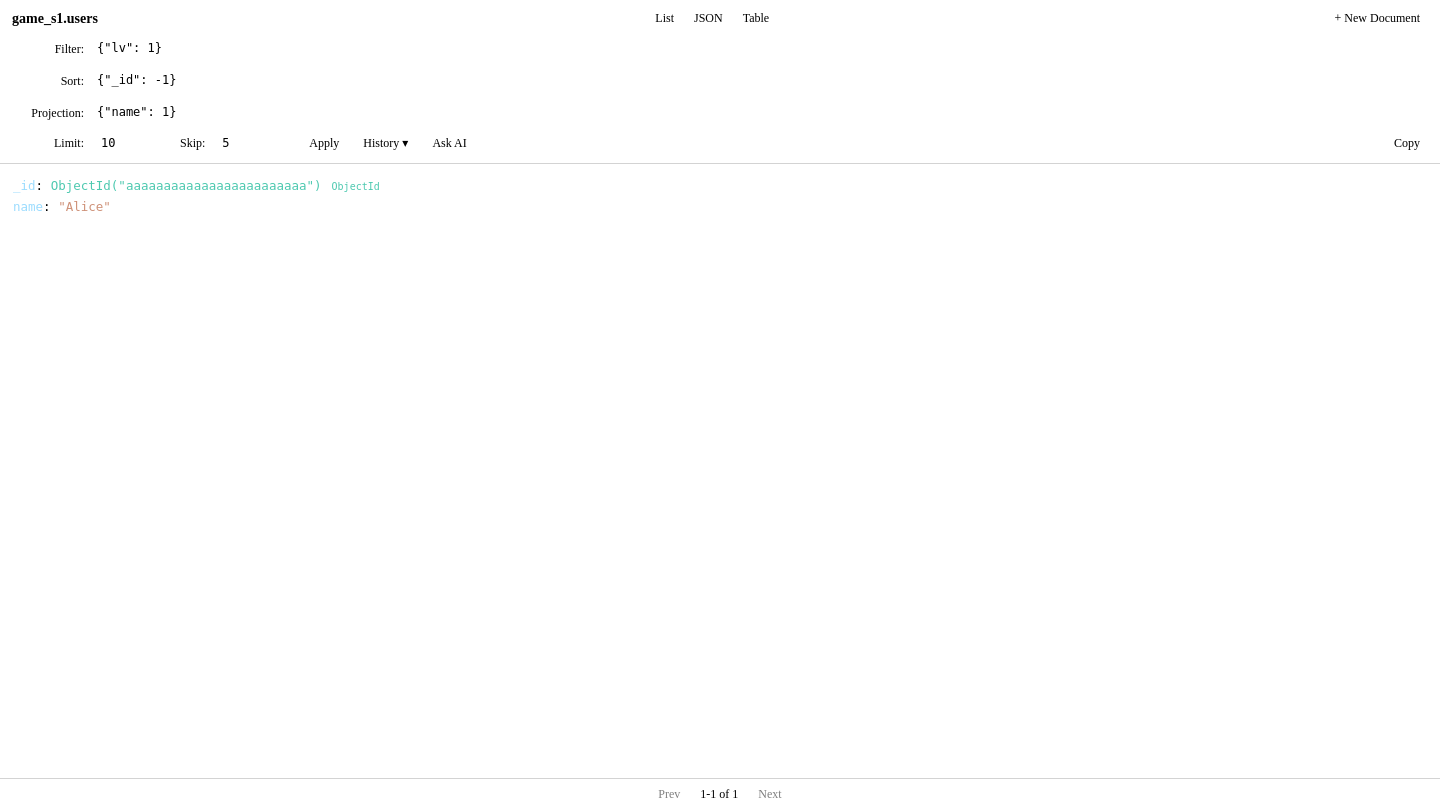
Test: MongoDocumentTable - Ask AI › 回答里没有命名块 (只有供复制的 pipeline): 不给 Fill, 回答留作文本
Click the button "Ask AI".
click(450, 143)  # box [424, 134, 475, 152]
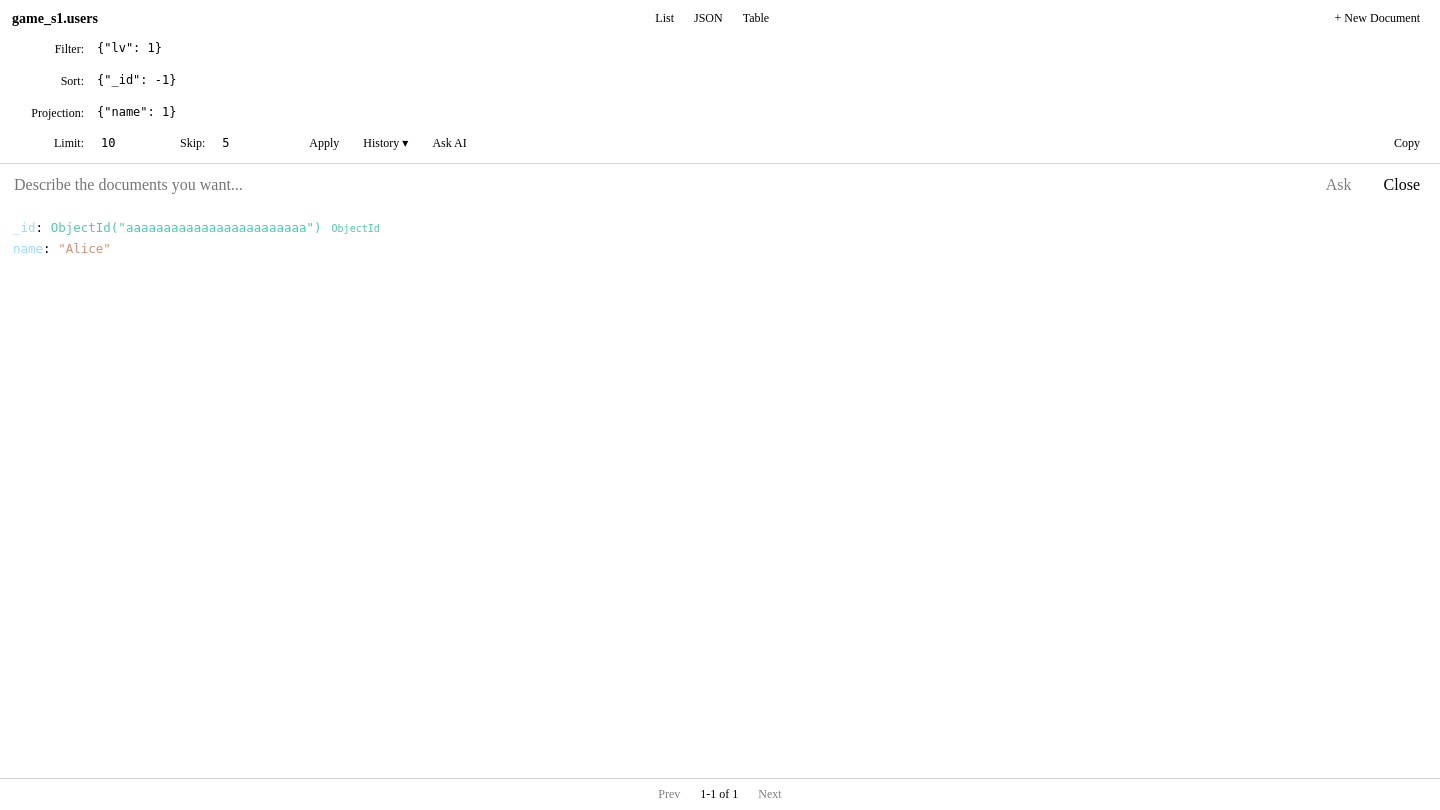
Type "top players" into the text box with test id "ai-ask-input".
click(657, 185); type("top players")  # box [8, 172, 1306, 198]
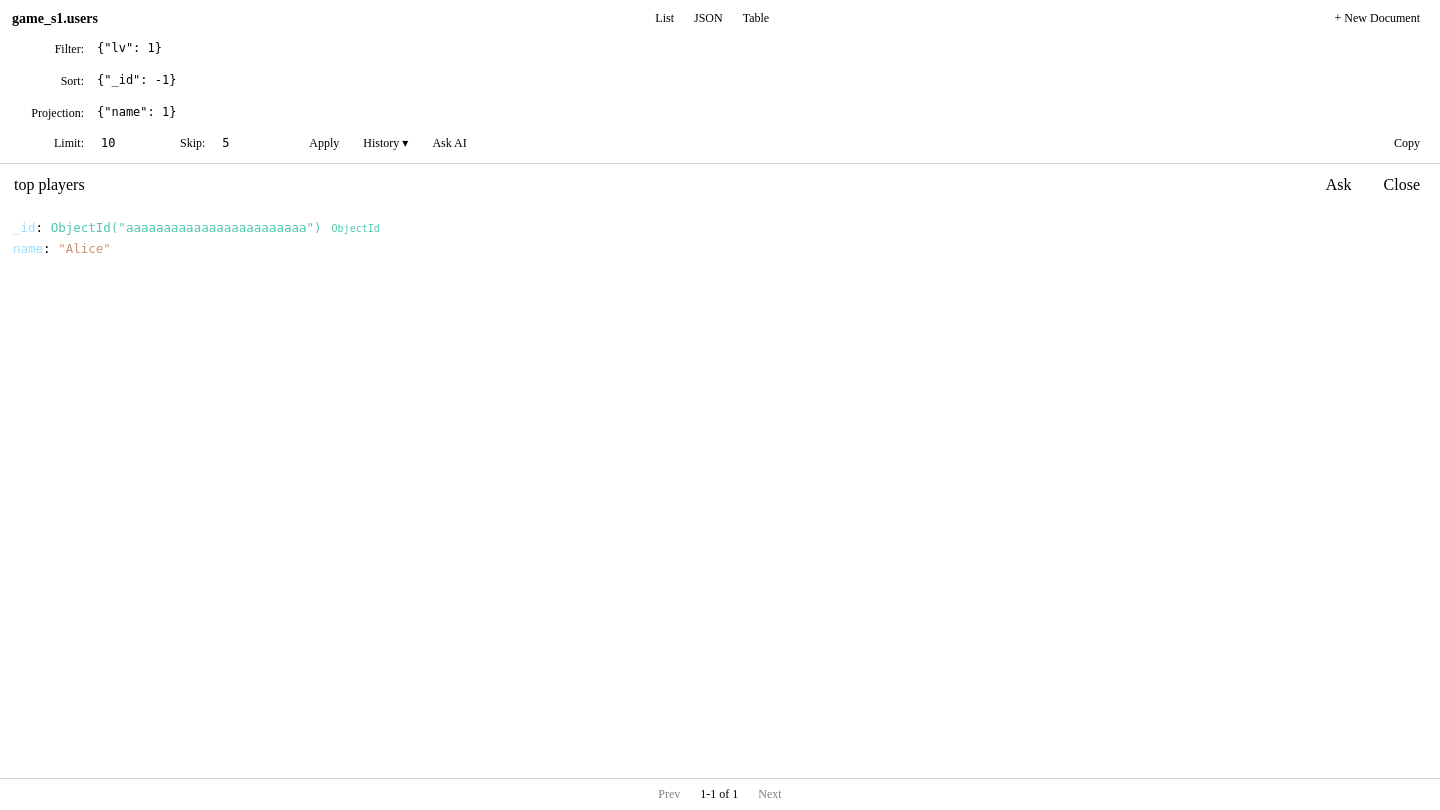
Press Enter in the text box with test id "ai-ask-input", box [8, 172, 1306, 198]
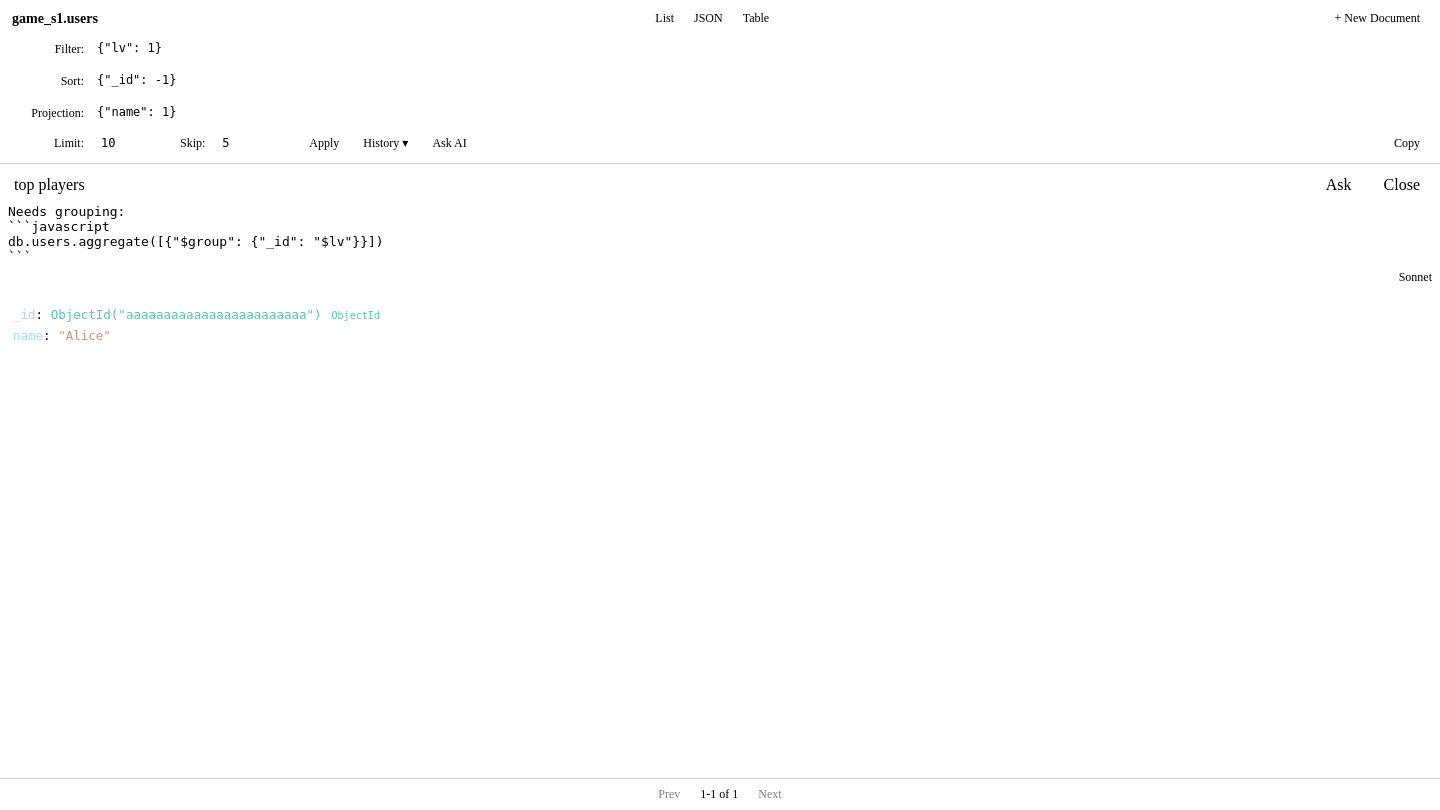
Check: the text "$group" is shown, box [8, 204, 384, 264]
